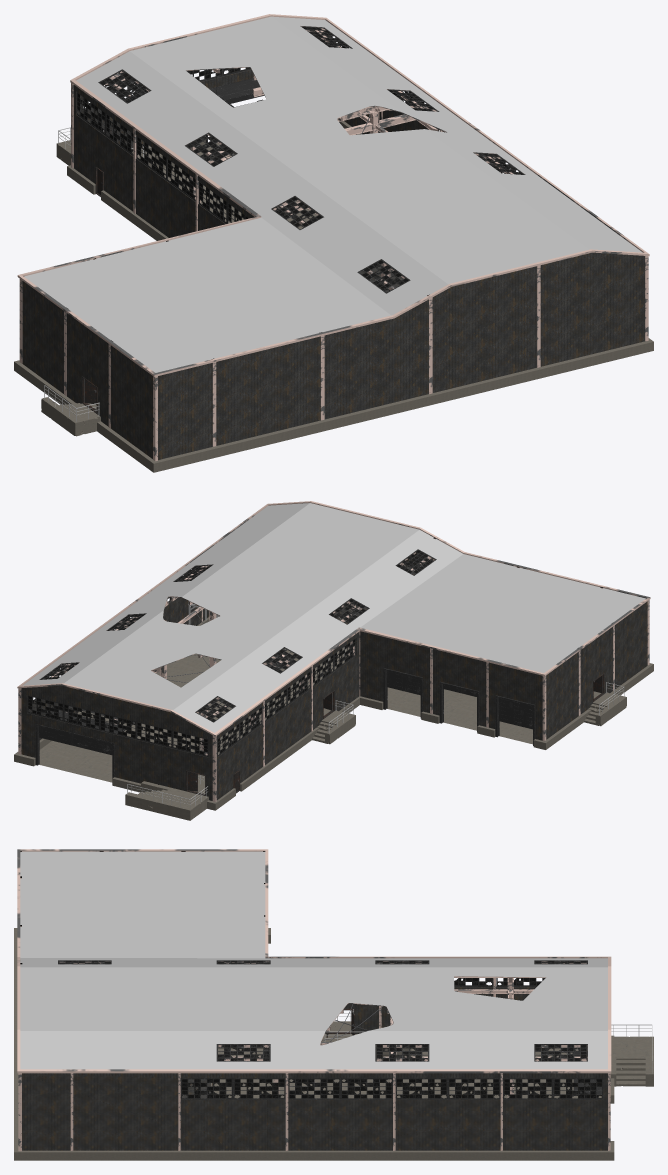
Rendered from warehouseupload2.fbx.
3 renders of one model, top to bottom at view 1: azimuth 30°, elevation 25°; view 2: azimuth 150°, elevation 25°; view 3: azimuth 270°, elevation 25°, orthographic. The views are drawn at different scales.
Visible parts, largest first — view 1: Roof, WarehouseWalls, WarehouseBase, Windows, SideSupportBeam, MainSupportBeam, ConcreteSteps, MainGate.001; view 2: Roof, WarehouseWalls, Windows, Floor, ConcreteSteps, WarehouseBase, SideSupportBeam, MainGate.001, SmallGateVar1, MainSupportBeam, SmallGateVar2, Railings (+1 smaller); view 3: Roof, WarehouseWalls, Windows, WarehouseBase, ConcreteSteps, Floor, SideSupportBeam, MainSupportBeam.
Part boxes in pixels (x1=…): Roof: x1=17, y1=14, x2=649, y2=376; WarehouseWalls: x1=22, y1=32, x2=644, y2=459; WarehouseBase: x1=14, y1=121, x2=653, y2=472; Windows: x1=76, y1=26, x2=524, y2=293; SideSupportBeam: x1=19, y1=83, x2=648, y2=461; MainSupportBeam: x1=104, y1=28, x2=513, y2=289; ConcreteSteps: x1=41, y1=140, x2=174, y2=436; MainGate.001: x1=205, y1=73, x2=264, y2=142; Roof: x1=17, y1=501, x2=650, y2=736; WarehouseWalls: x1=21, y1=553, x2=647, y2=800; Windows: x1=27, y1=549, x2=436, y2=756; Floor: x1=39, y1=647, x2=532, y2=784; ConcreteSteps: x1=125, y1=691, x2=626, y2=820; WarehouseBase: x1=14, y1=616, x2=653, y2=810; SideSupportBeam: x1=18, y1=537, x2=649, y2=801; MainGate.001: x1=35, y1=704, x2=134, y2=778; SmallGateVar1: x1=495, y1=695, x2=535, y2=745; MainSupportBeam: x1=51, y1=552, x2=431, y2=755; SmallGateVar2: x1=383, y1=668, x2=422, y2=718; Railings: x1=127, y1=682, x2=624, y2=809; Roof: x1=17, y1=849, x2=611, y2=1073; WarehouseWalls: x1=22, y1=962, x2=607, y2=1150; Windows: x1=58, y1=960, x2=603, y2=1099; WarehouseBase: x1=14, y1=928, x2=614, y2=1160; ConcreteSteps: x1=322, y1=1021, x2=653, y2=1086; Floor: x1=214, y1=1048, x2=601, y2=1098; SideSupportBeam: x1=18, y1=851, x2=610, y2=1151; MainSupportBeam: x1=60, y1=962, x2=587, y2=1097.
Bounding box in the file's own units: 4118 × 856 × 4757.
